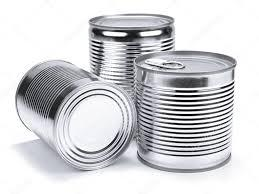Tin: (12, 55, 138, 175), (133, 38, 240, 178), (71, 5, 188, 81)
